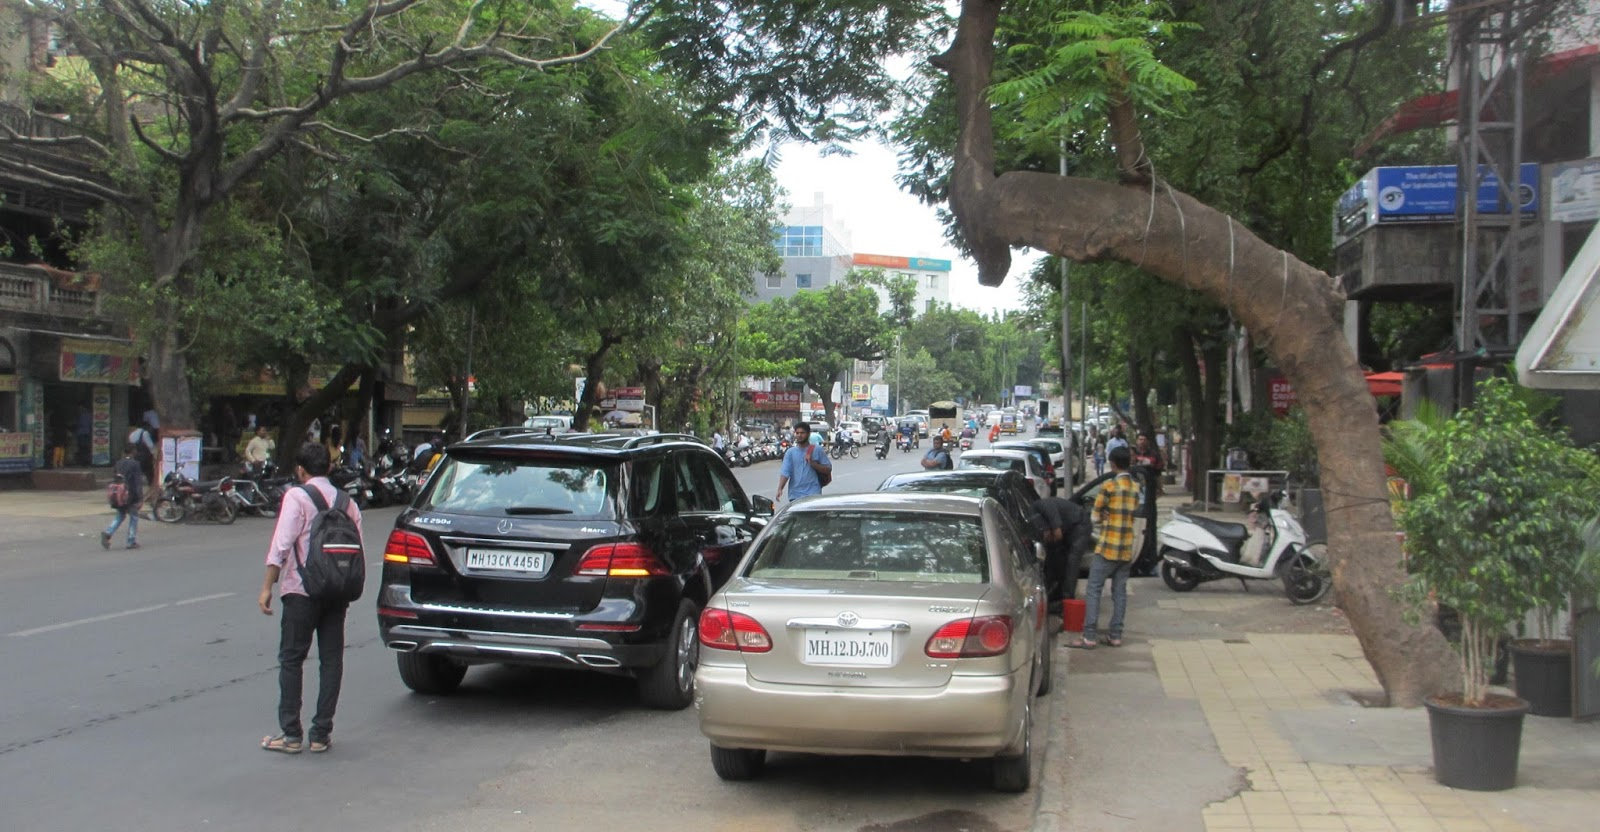bike: (1165, 488, 1325, 607)
car: (705, 494, 1054, 797), (382, 426, 716, 698)
person: (266, 440, 366, 761), (1077, 447, 1133, 650), (99, 449, 154, 552), (777, 422, 834, 494)
plant: (1394, 378, 1587, 794)
tree: (1305, 308, 1440, 702), (958, 162, 1314, 305)
tree branches: (283, 21, 599, 106), (131, 5, 229, 169), (484, 140, 632, 242)
